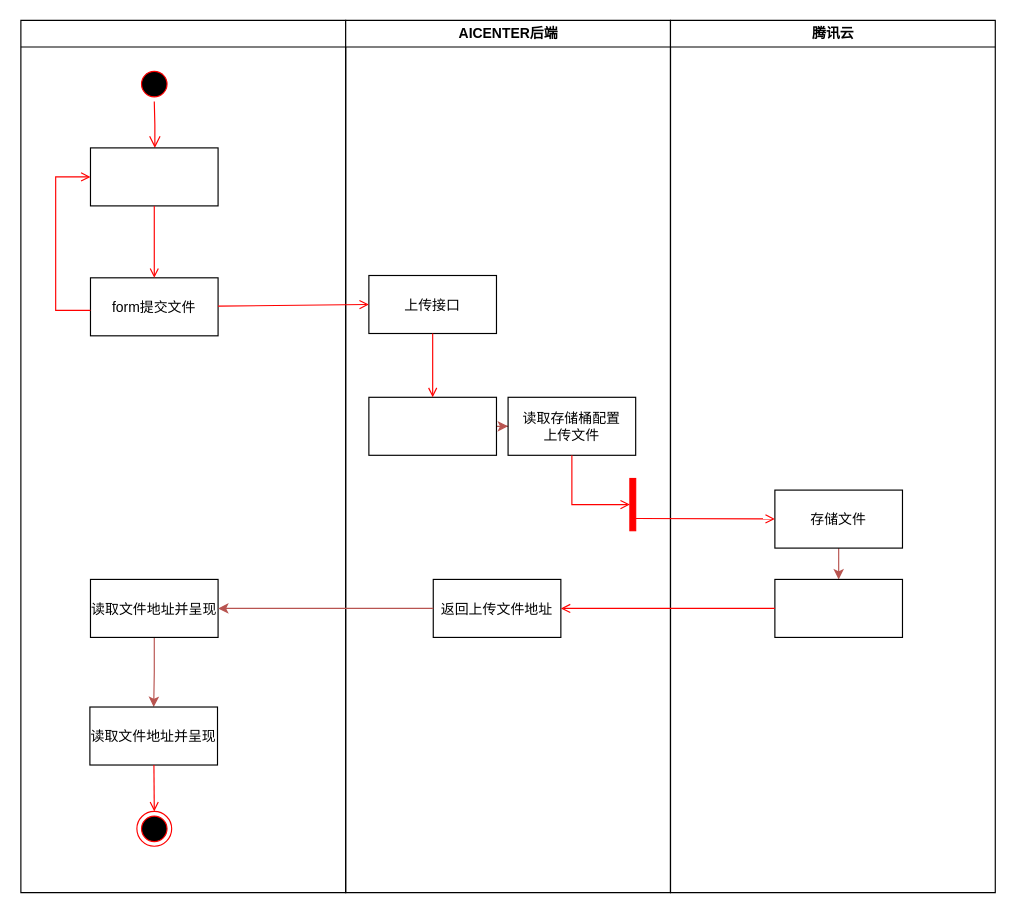
The diagram is 1015 pixels wide and 913 high, and some of its shapes have lost their labels. Here are the shapes that lost their labels. From the top down, the box of each, then its label:
(89, 147, 218, 206): 用户上传
(368, 396, 496, 455): 解析上传的文件
(20, 19, 346, 893): 用户
(774, 578, 902, 637): 返回文件Etag
